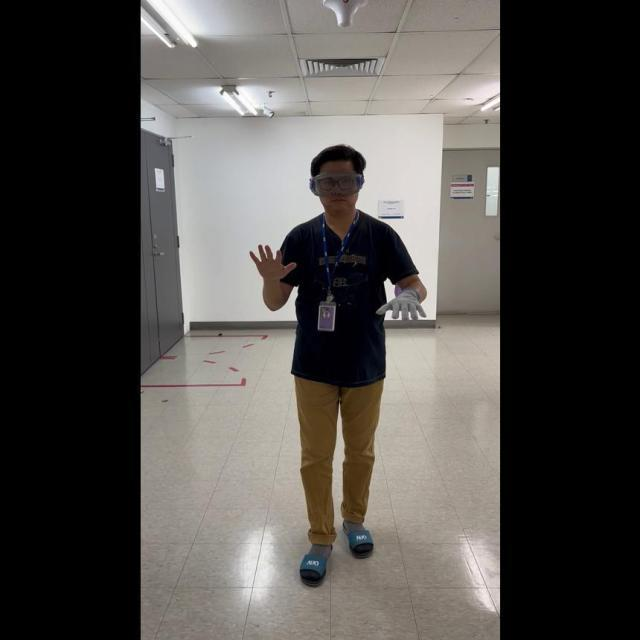bare_hand: (247, 239, 293, 280)
gloved_hand: (372, 286, 428, 325)
